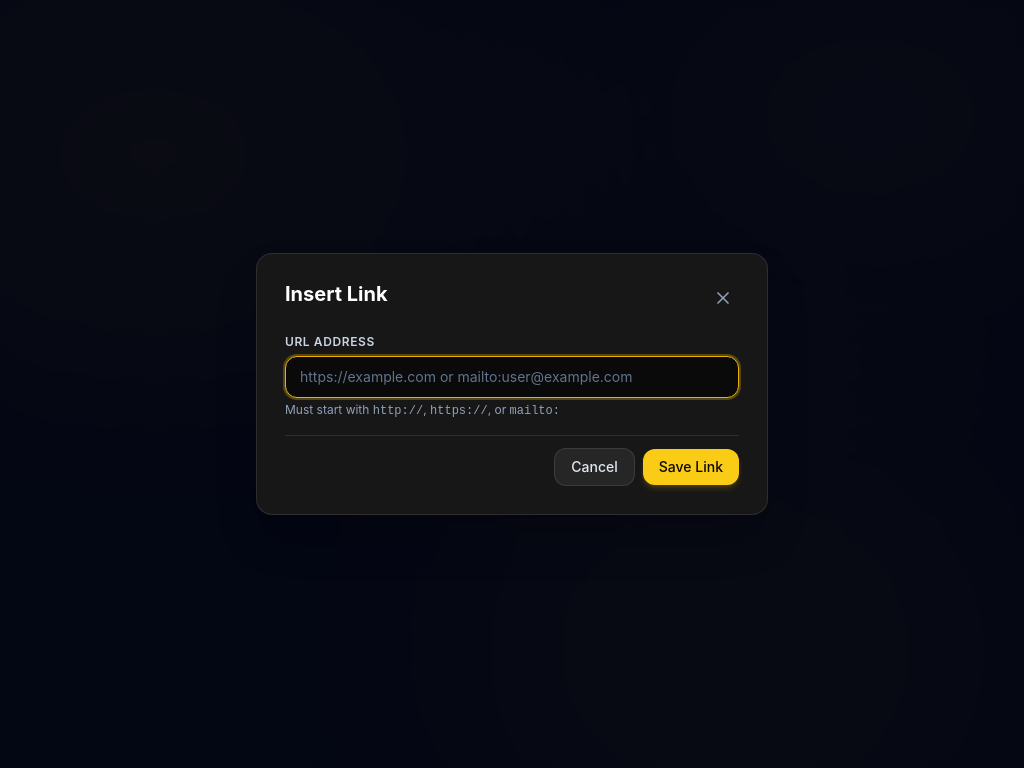
Test: LinkModal Component & URL Sanitization › rejects javascript: URLs and displays an error message without saving
This screenshot has width=1024, height=768.
Type "javascript:alert(\"XSS\")" into the field labelled "URL Address" at (512, 377), box [285,356,739,398]
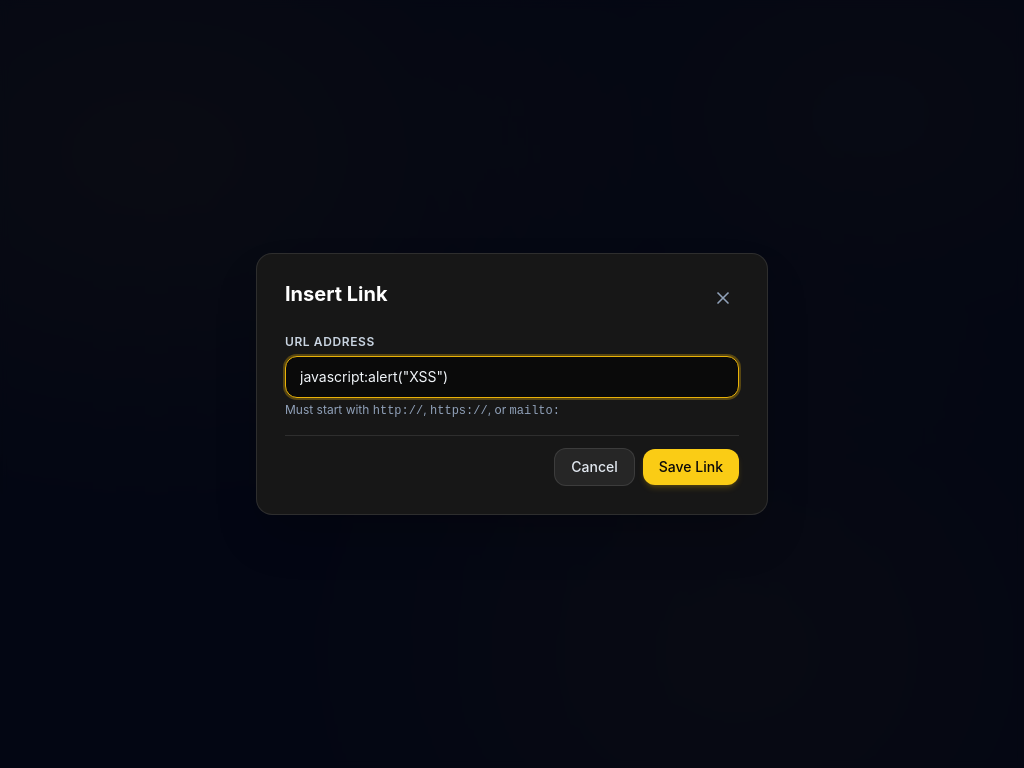
Click the button "Save Link" at (691, 467), box [643,449,739,485]
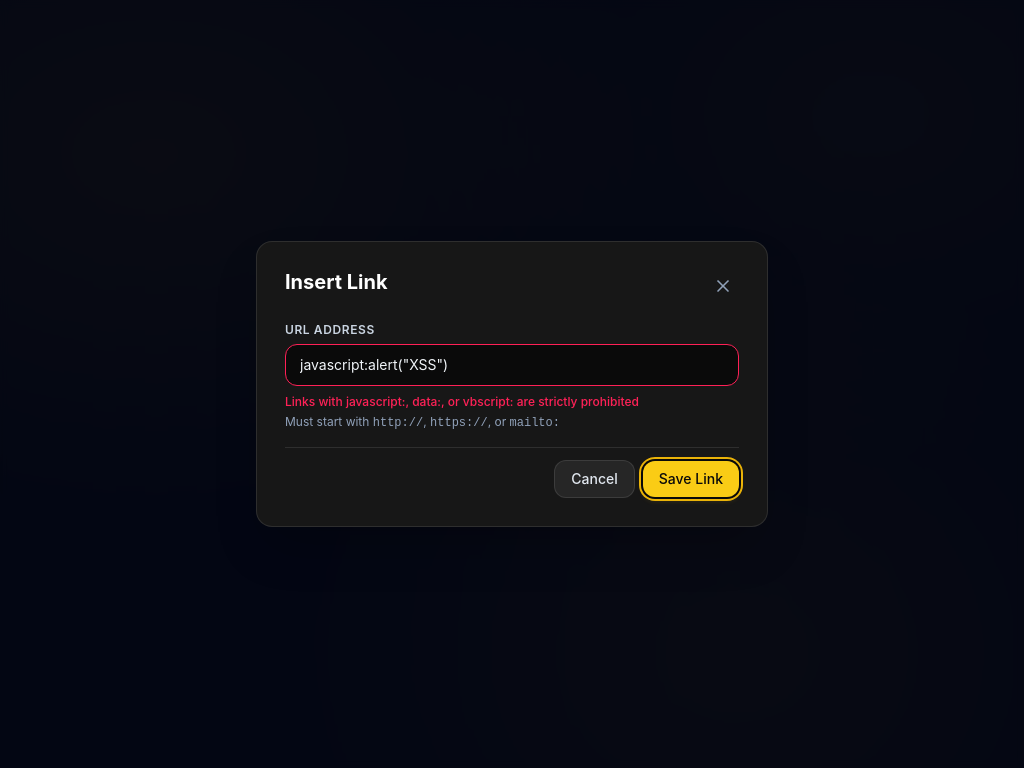
Result: the text "Links with javascript:, data:, or vbscript: are strictly prohibited" is shown at [285,394,639,409]
